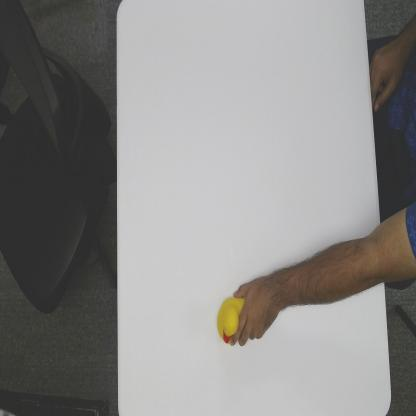Arm: (281, 229, 385, 318)
Duck: (216, 294, 250, 348)
Hand: (230, 273, 280, 346)
